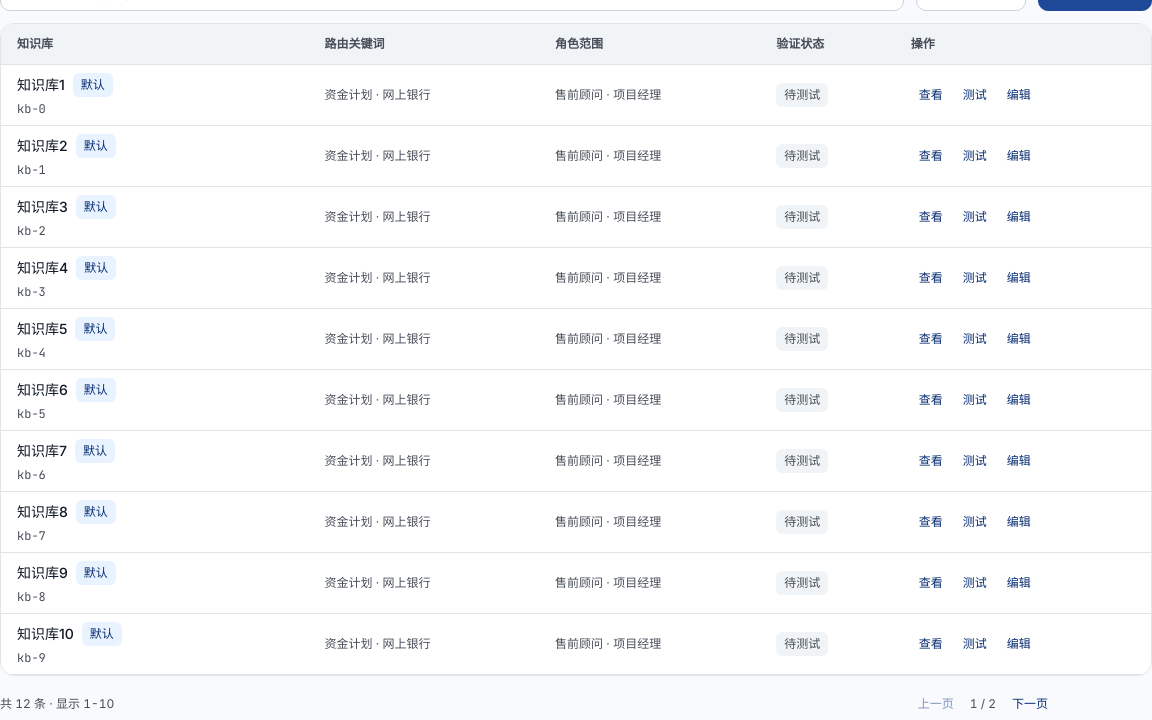
Scenario: KnowledgeBaseProfilesPanel unified list › 每页十条，搜索涵盖完整档案与角色，启用筛选会重置分页
The width and height of the screenshot is (1152, 720).
(page scrolled)
Check: the text "知识库11" is not shown
Click the button "下一页" at point(1030, 704), box [1004,688,1056,719]
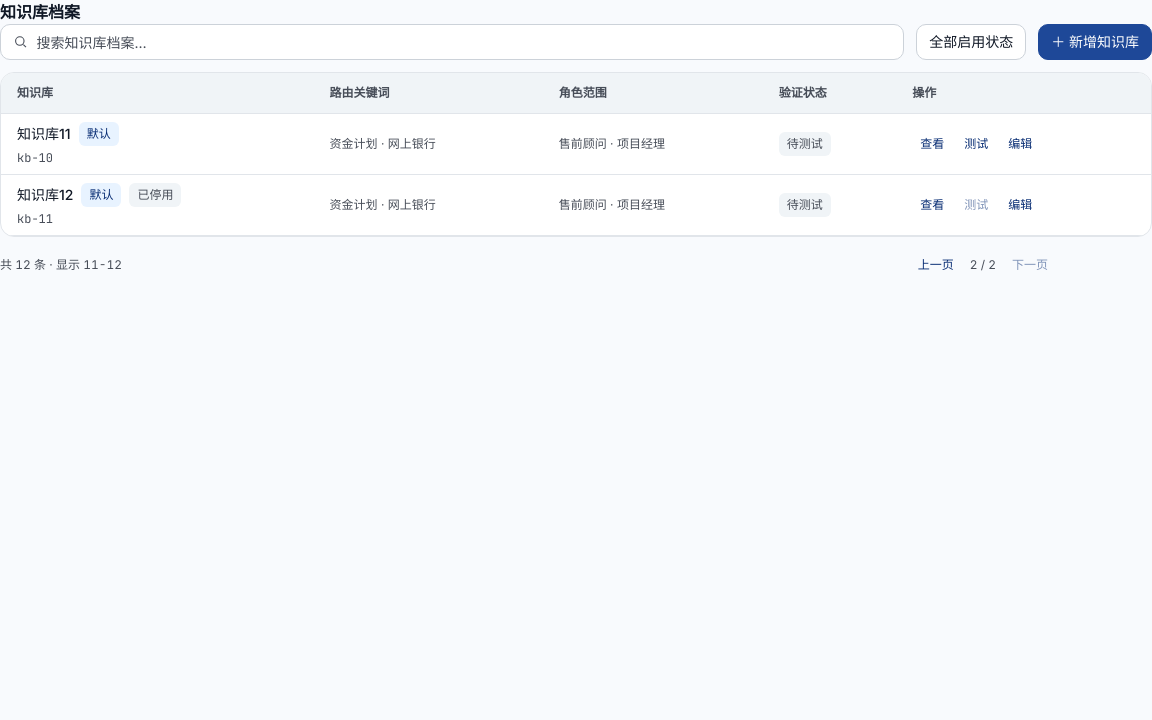
Check: the text "知识库12" is shown, box [17,184,73,204]
Select "已停用" in the dropdown named "筛选知识库档案" at point(971, 42), box [916,24,1026,60]
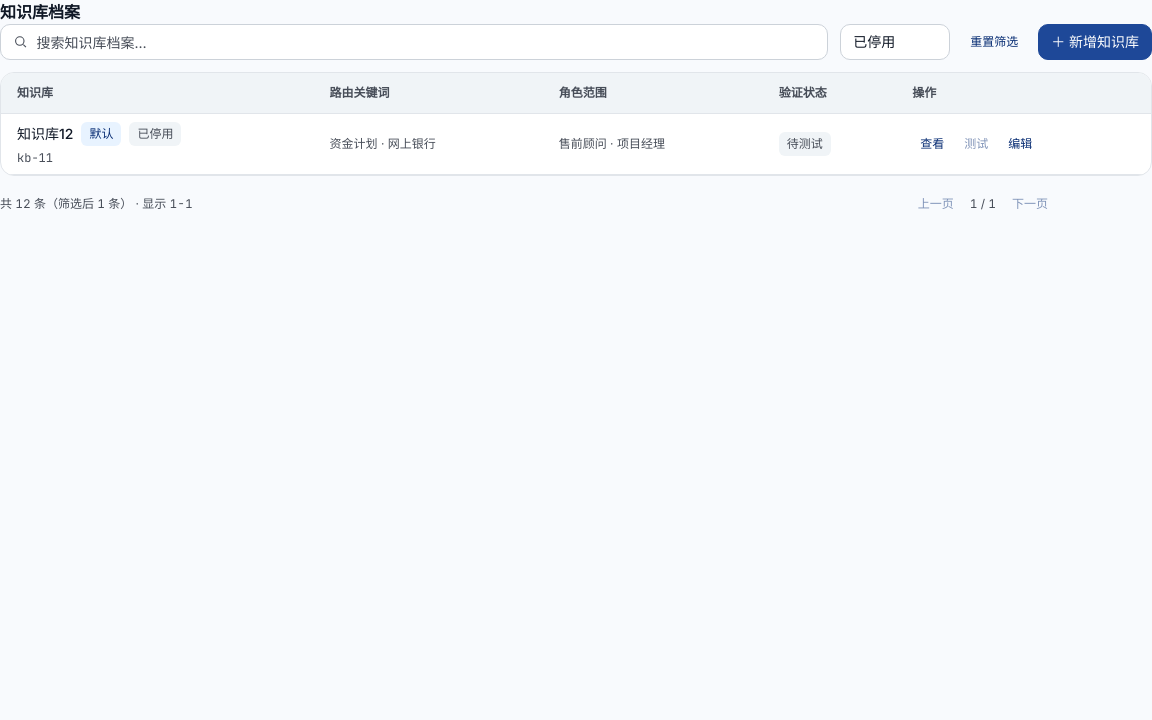
Check: the text "知识库12" is shown, box [17,124,73,144]
Check: the text "共 12 条（筛选后 1 条） · 显示 1-1" is shown, box [0,192,193,216]
Click the button "重置筛选" at point(994, 42), box [962,26,1026,58]
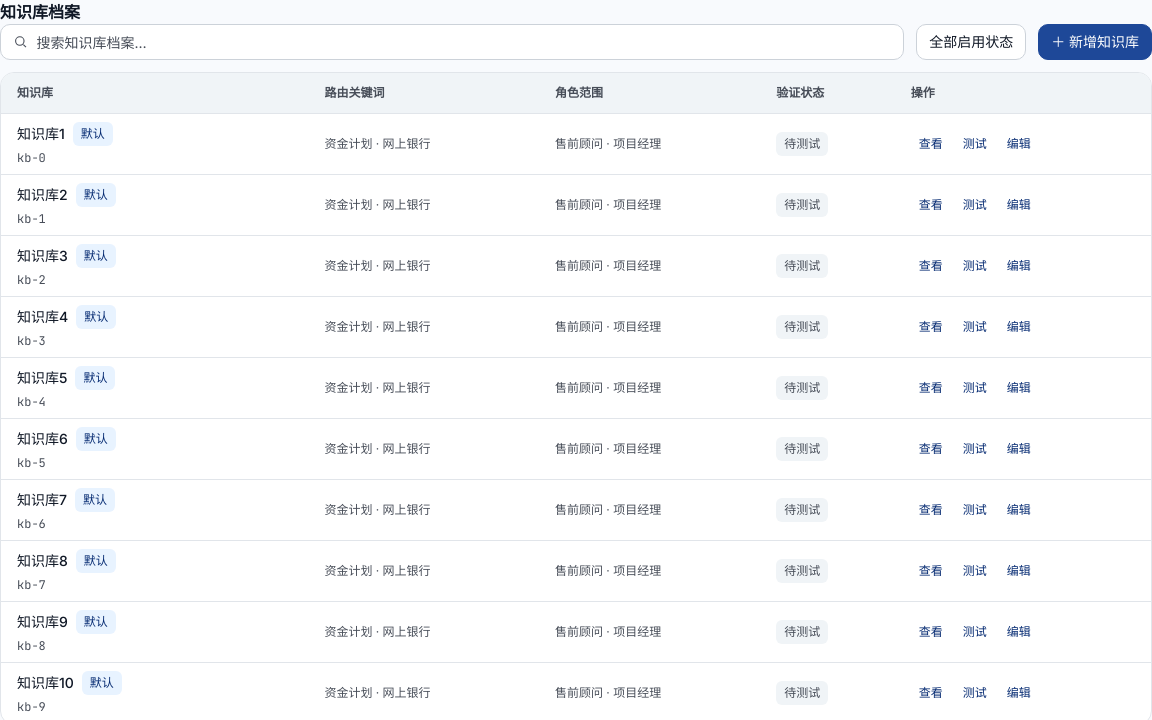
Type "kb-11" into the search field labelled "搜索知识库档案" at point(464, 42), box [37,25,891,59]
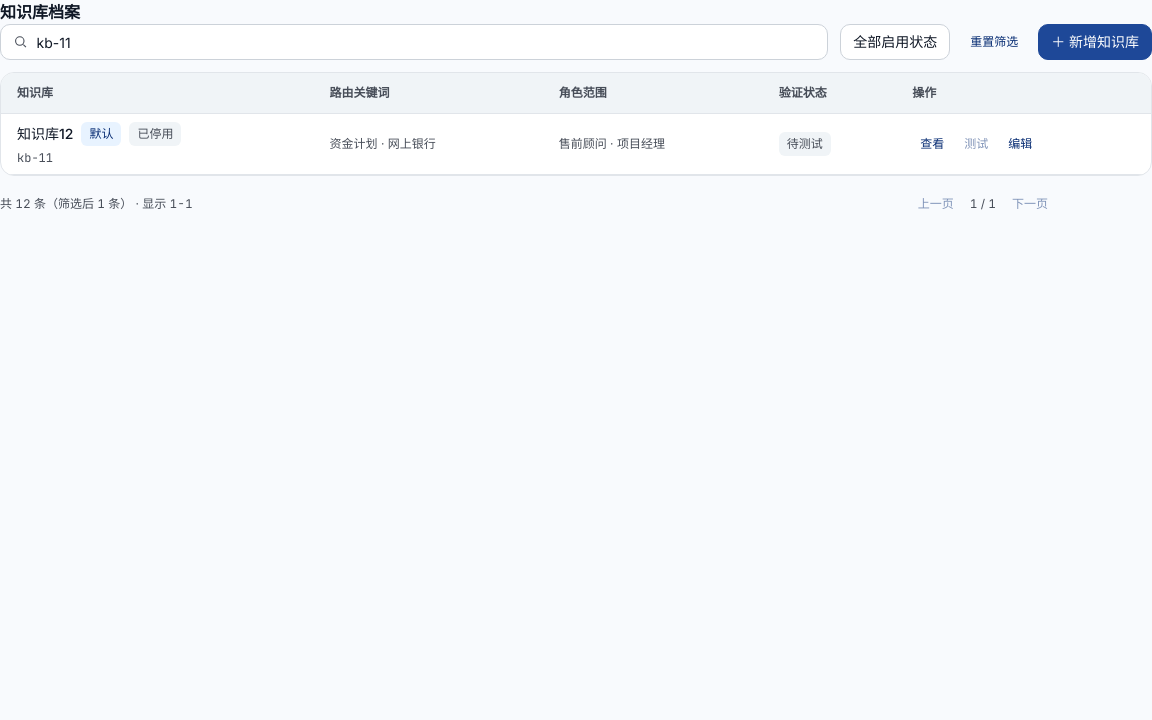
Check: the text "知识库12" is shown, box [17,124,73,144]
Replace the text in the search field with "项目经理" at point(426, 42), box [36,25,815,59]
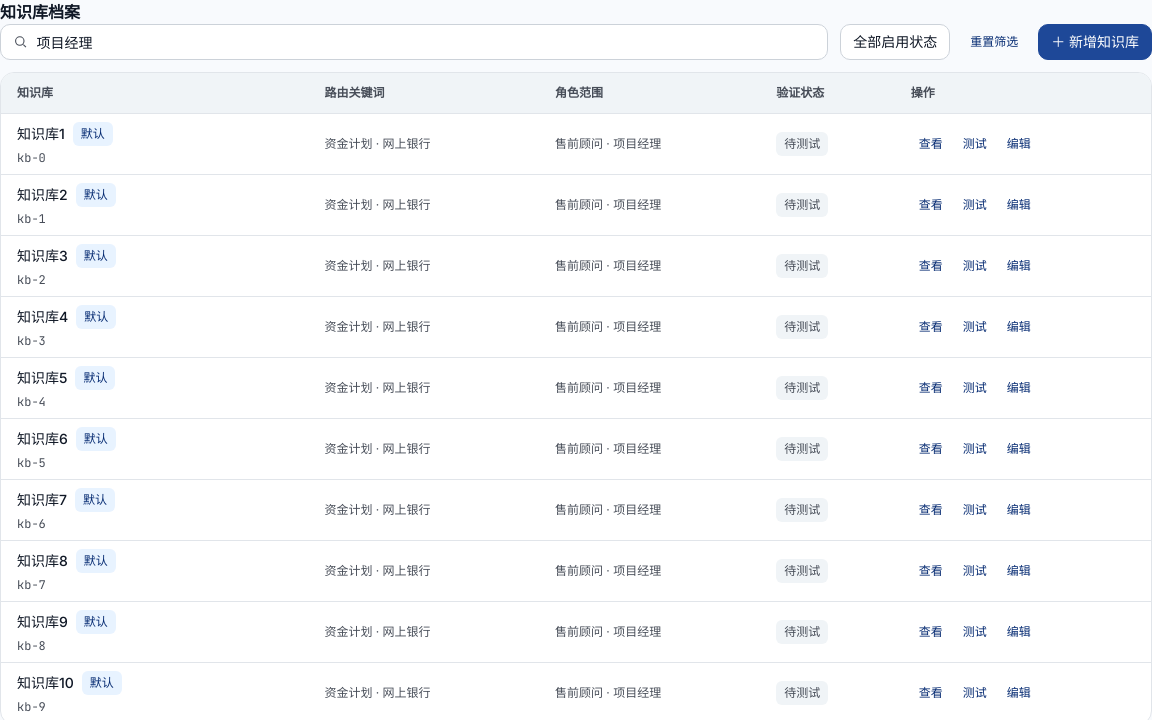
Replace the text in the search field with "未配置的关键词" at point(426, 42), box [36,25,815,59]
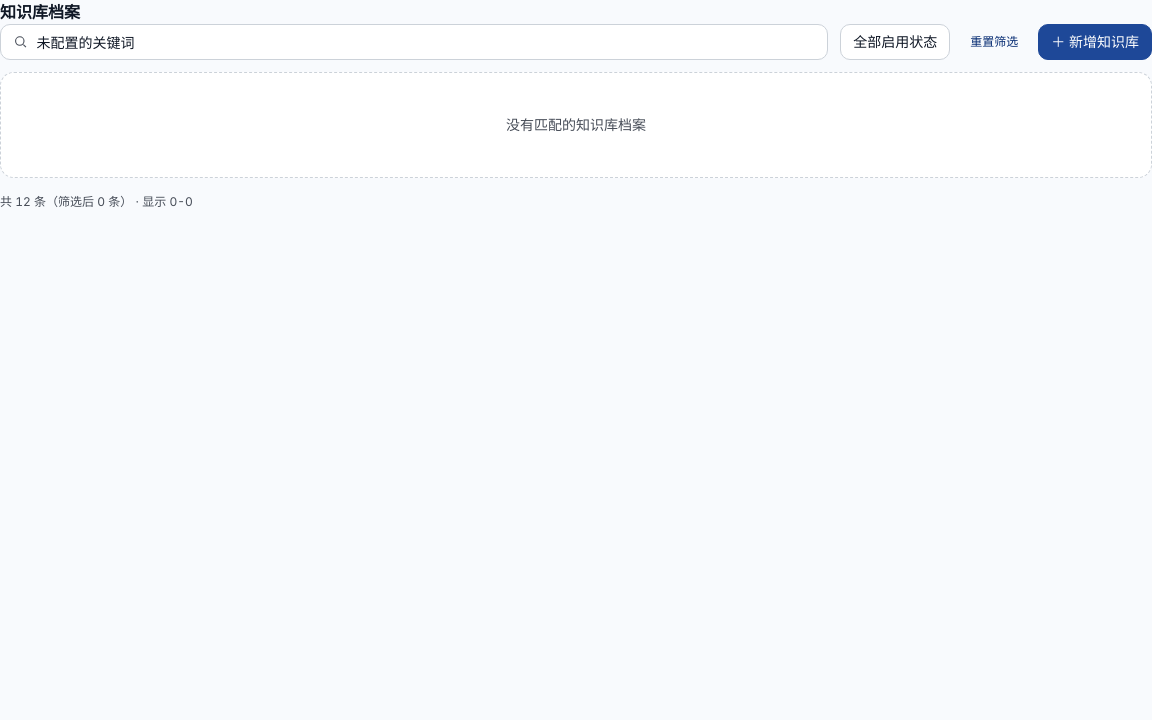
Check: the text "没有匹配的知识库档案" is shown, box [0,72,1151,178]
